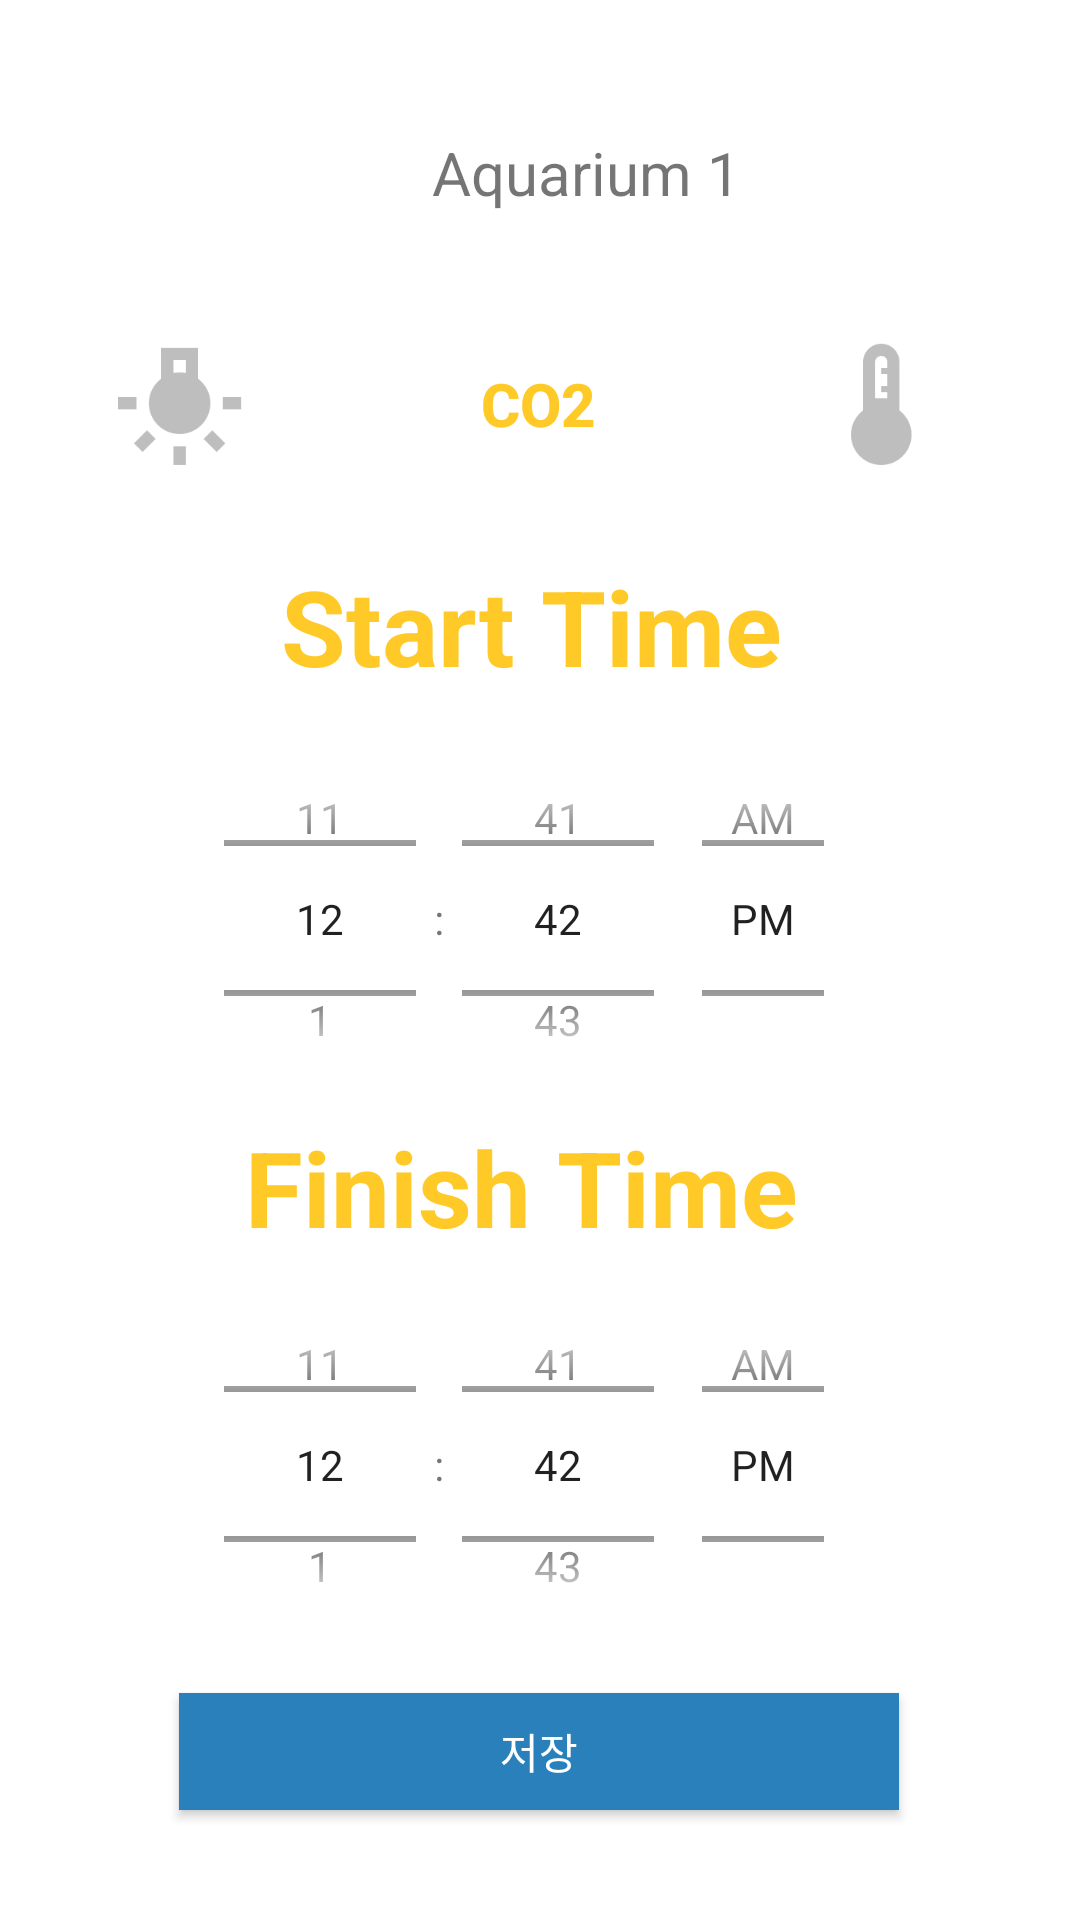

Screen size 1080 x 1920. Icon name, then its box in pixels as (x1, y1, x2, y2):
led: (118, 348, 241, 465)
